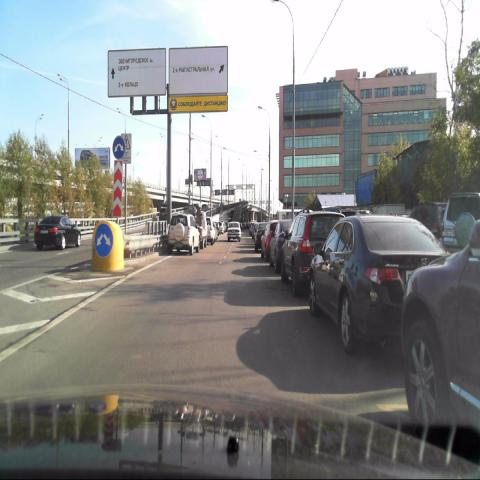4_2_3: (112, 134, 125, 161)
